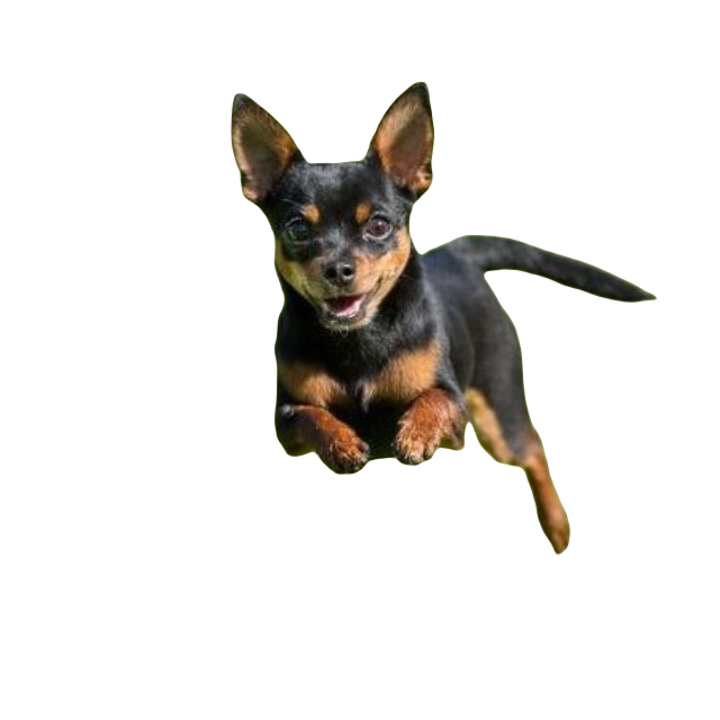Dog: (215, 80, 659, 558)
